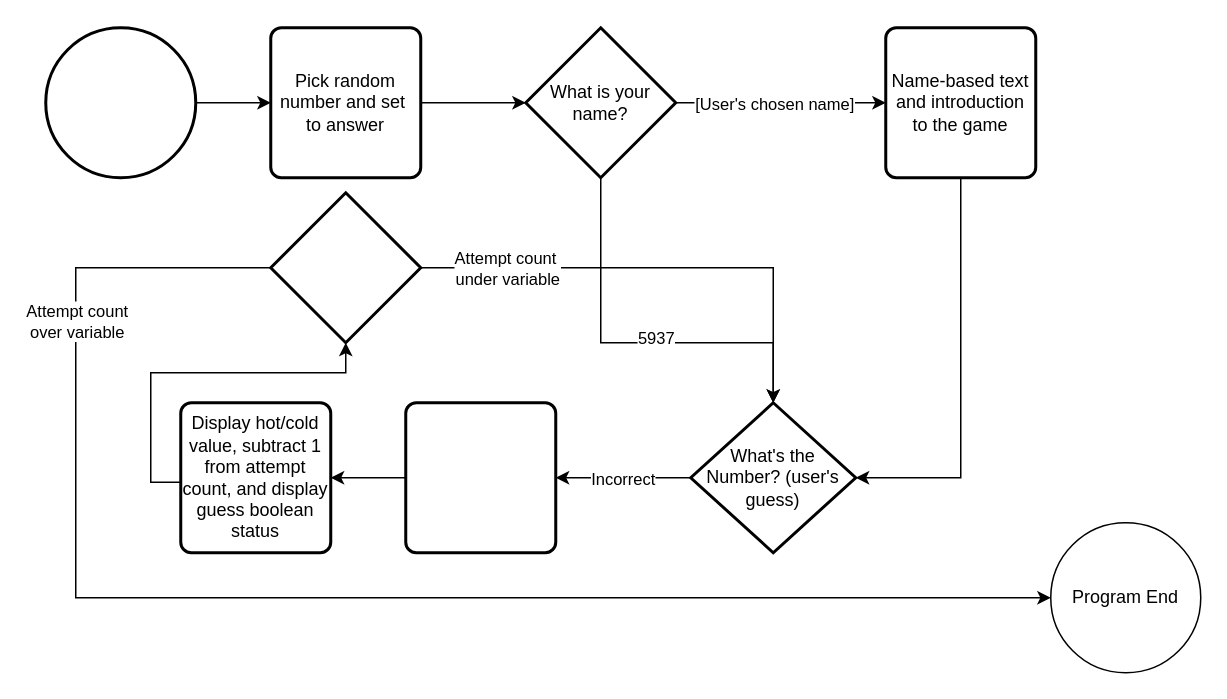
The diagram is 1227 pixels wide and 699 high, and some of its shapes have lost their labels. Each missing label, with the centre of its shape:
"Check Attempt Count" belongs at (345,267).
"Determine how close number is to answer and place into hot/cold value" belongs at (480,477).
"Program Start" belongs at (120,102).
